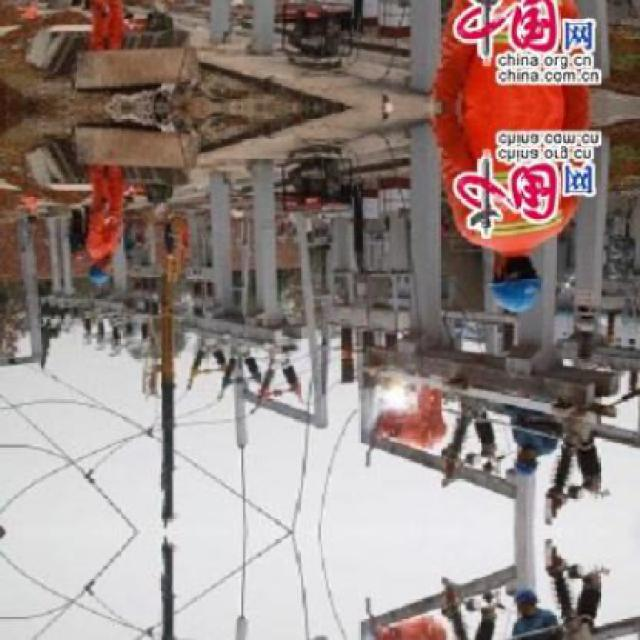con casco: (480, 243, 552, 320)
